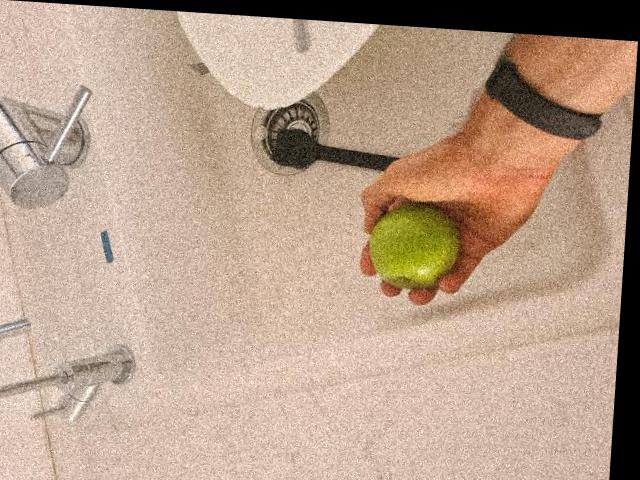apple: (366, 202, 464, 292)
